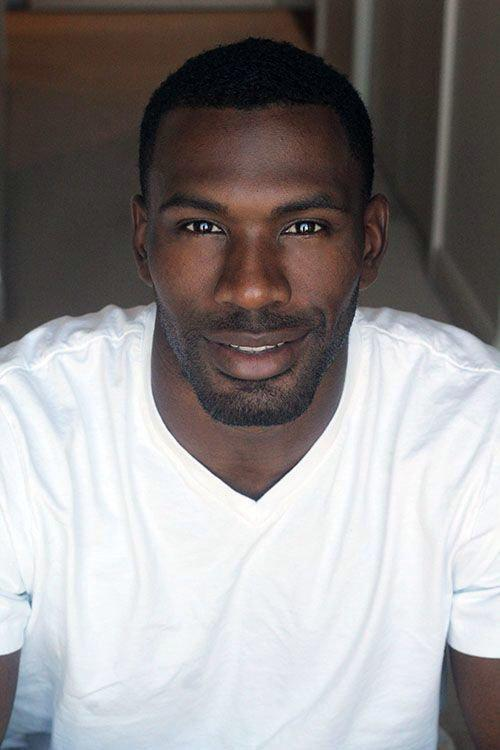Sober: (154, 114, 353, 397)
